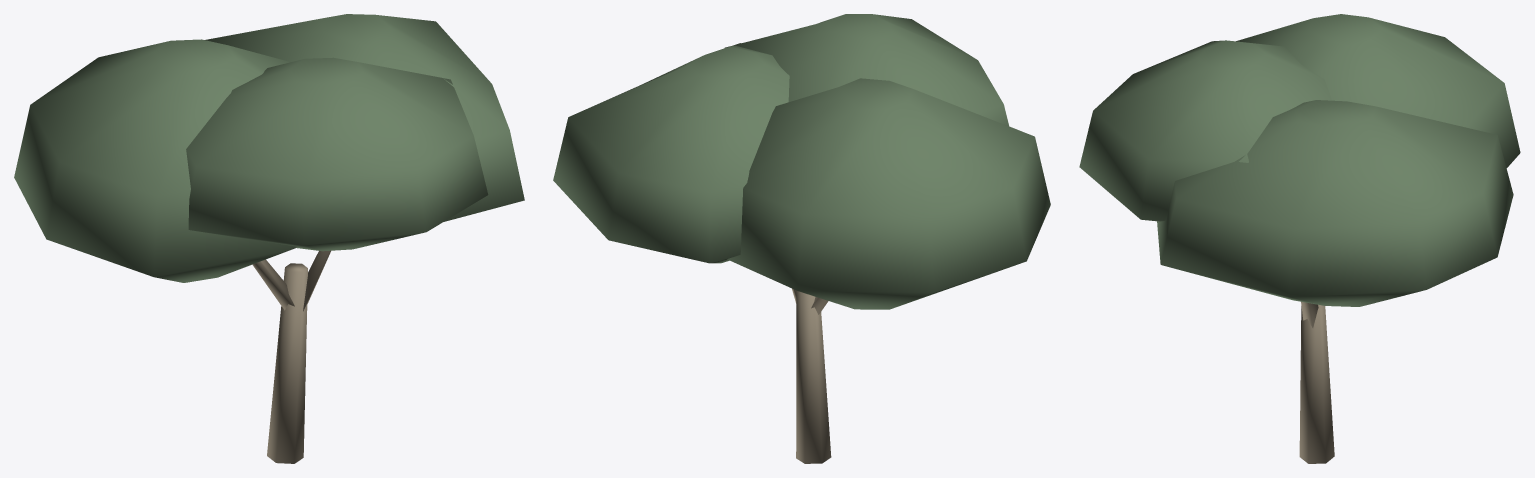
Rendered from orchid-tree-lod.glb.
3 renders of one model, left to right at view 1: azimuth 30°, elevation 25°; view 2: azimuth 150°, elevation 25°; view 3: azimuth 270°, elevation 25°, orthographic. The views are drawn at different scales.
Parts seen in each view (by area): view 1: orchid-tree-lod_landscape_canopy_orchid, orchid-tree-lod_landscape_bark; view 2: orchid-tree-lod_landscape_canopy_orchid, orchid-tree-lod_landscape_bark; view 3: orchid-tree-lod_landscape_canopy_orchid, orchid-tree-lod_landscape_bark.
Part boxes in pixels (x1,y1,x2,y2): orchid-tree-lod_landscape_canopy_orchid: (14,14,524,282); orchid-tree-lod_landscape_bark: (252,250,330,463); orchid-tree-lod_landscape_canopy_orchid: (553,14,1050,309); orchid-tree-lod_landscape_bark: (792,288,831,463); orchid-tree-lod_landscape_canopy_orchid: (1079,14,1520,306); orchid-tree-lod_landscape_bark: (1299,302,1334,463).
Size of the model in its own units: 7.56 by 6.79 by 6.79.
